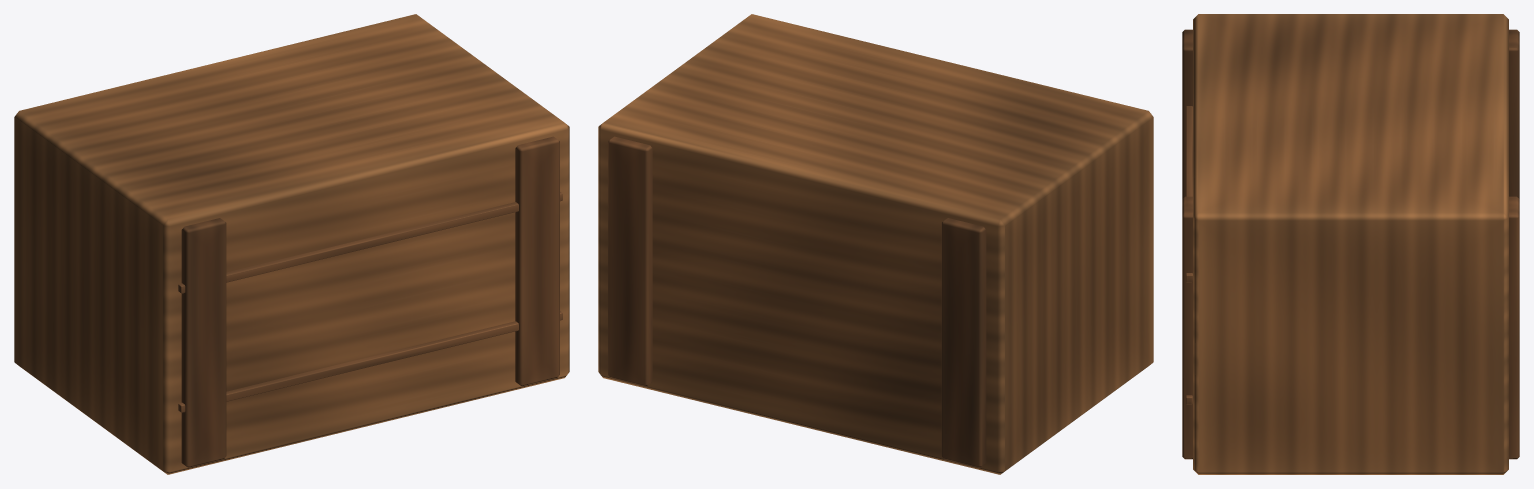
Rendered from Hold_Crate.fbx.
3 renders of one model, left to right at view 1: azimuth 30°, elevation 25°; view 2: azimuth 150°, elevation 25°; view 3: azimuth 270°, elevation 25°, orthographic. The views are drawn at different scales.
Parts seen in each view (by area): view 1: Hold_Crate; view 2: Hold_Crate; view 3: Hold_Crate.
Boxes of the visible parts, x1,y1,x2,y2 form: Hold_Crate: [14, 14, 569, 474]; Hold_Crate: [598, 14, 1153, 474]; Hold_Crate: [1182, 14, 1519, 474].
Size of the model in its own units: 0.5 by 0.3 by 0.35.
Materials: 1 (1 with a texture image).
